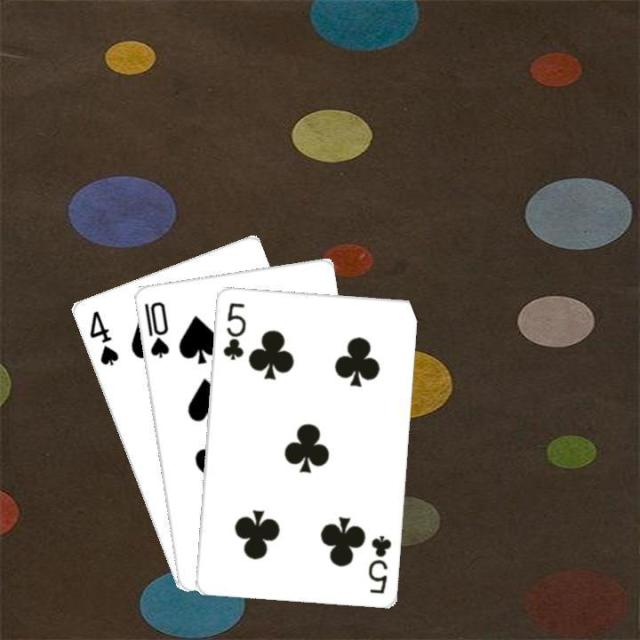10S: (140, 297, 170, 360)
4S: (84, 306, 120, 367)
5C: (363, 530, 393, 594), (219, 298, 247, 361)
